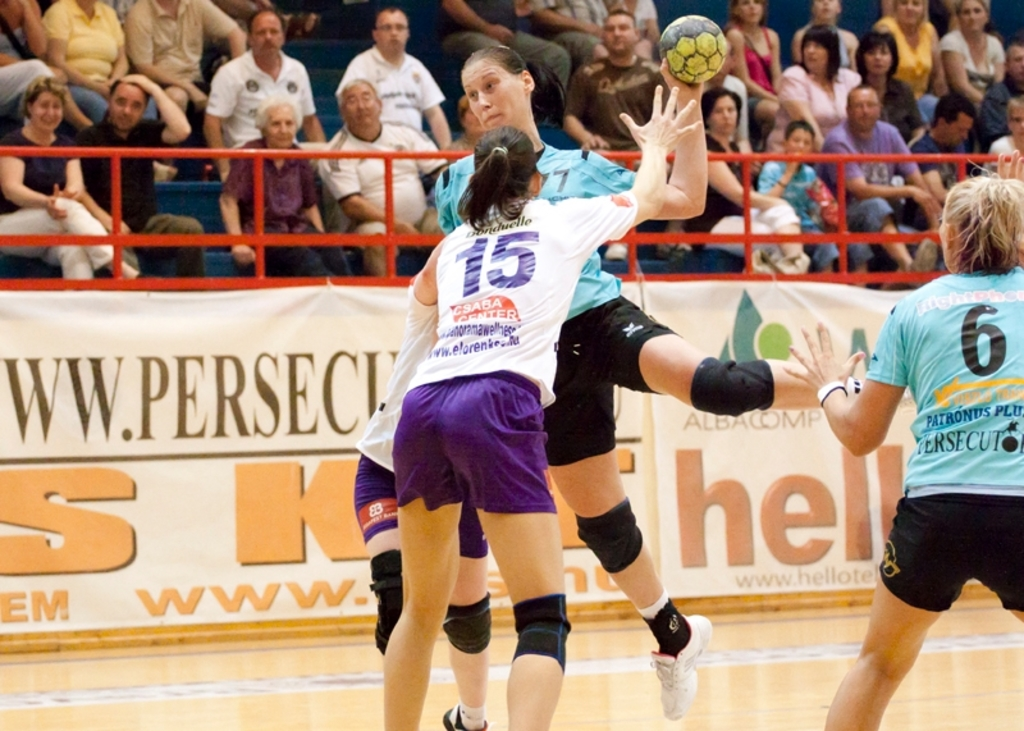Ball: (658, 14, 724, 82)
